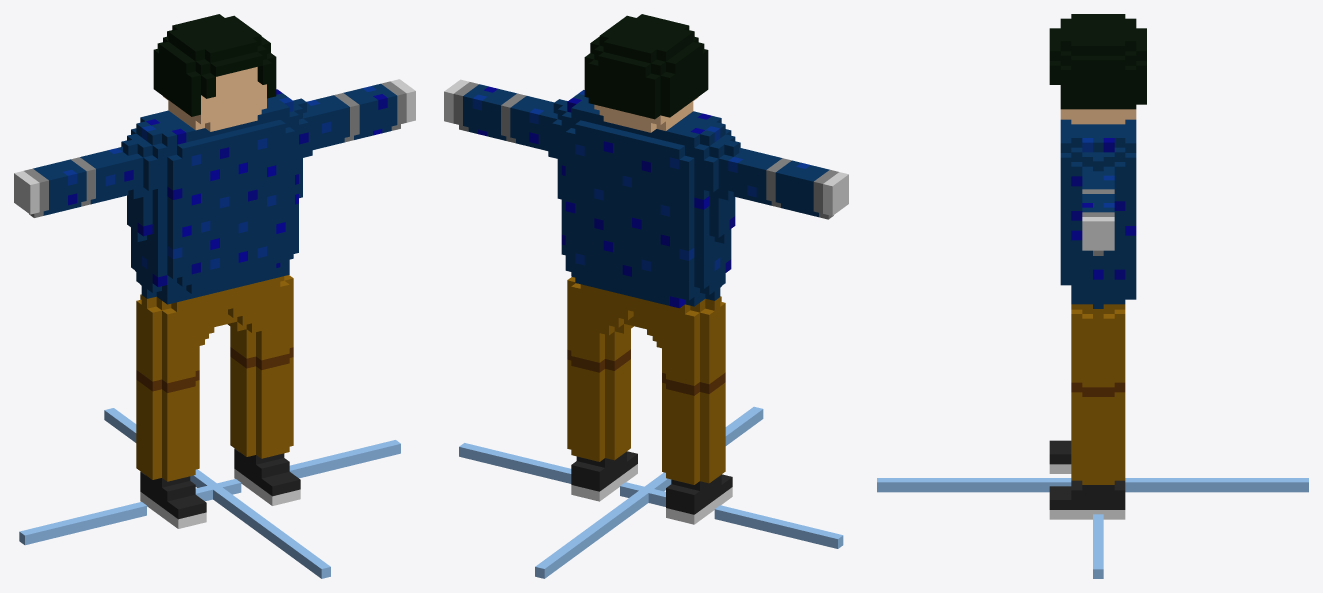
File: player.vox.obj
3 renders of one model, left to right at view 1: azimuth 30°, elevation 25°; view 2: azimuth 150°, elevation 25°; view 3: azimuth 270°, elevation 25°, orthographic.
Bounding box in the file's own units: 4.1 × 4.7 × 4.
1 material, 1 textured.
